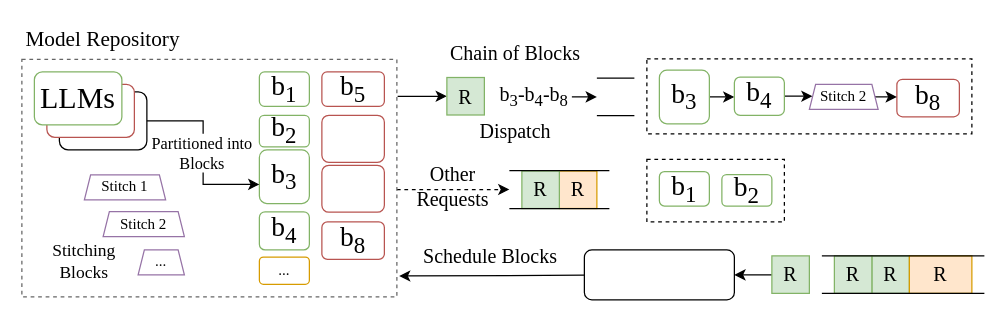
The diagram is 1008 pixels wide and 321 high, and some of its shapes have lost their labels. The shapes that lost their labels are listed below. From the top down, each one's centre as x and y in pixels, then its label:
point (352, 138): b 6
point (352, 188): b 7
point (658, 274): Scheduler
